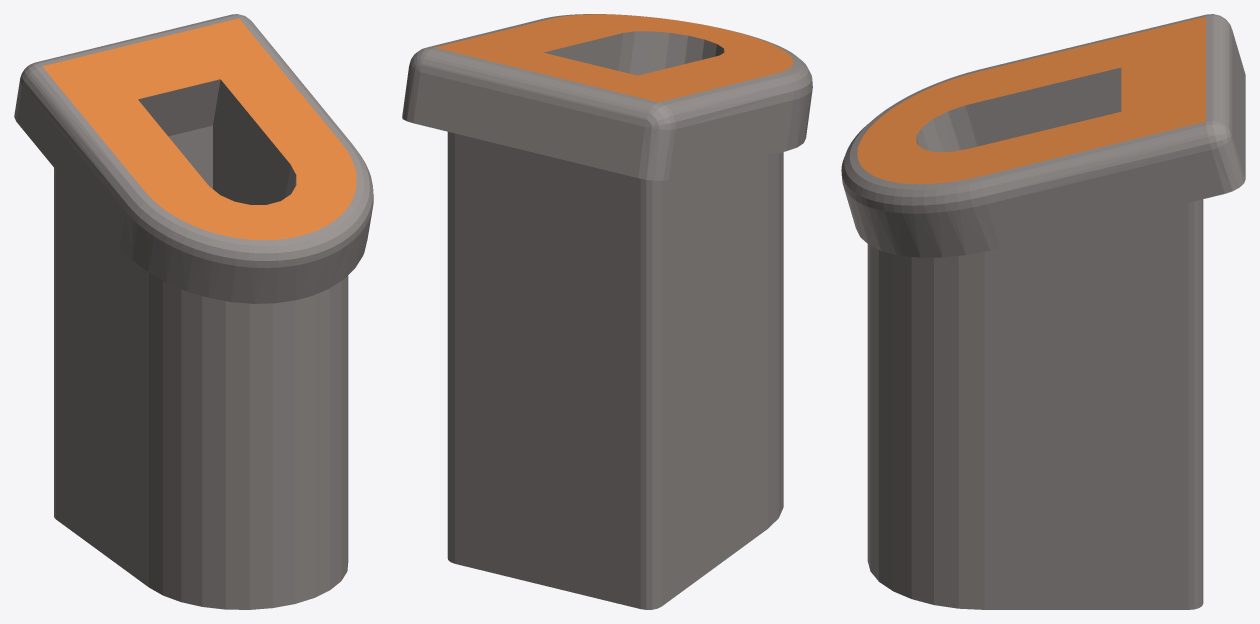
The model's file is trash_can.dae.
3 views of the same model, side by side, from view 1: azimuth 30°, elevation 25°; view 2: azimuth 150°, elevation 25°; view 3: azimuth 270°, elevation 25° (orthographic). The views are drawn at different scales.
Parts seen in each view (by area): view 1: trash; view 2: trash; view 3: trash.
Part boxes in pixels (x1=…): trash: x1=14, y1=14, x2=373, y2=609; trash: x1=402, y1=14, x2=812, y2=609; trash: x1=841, y1=14, x2=1245, y2=609.
Bounding box in the file's own units: 0.4048 × 0.5598 × 0.752.
